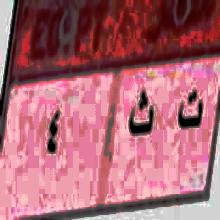4: (48, 99, 60, 164)
taa: (176, 83, 204, 137)
thaa: (126, 86, 156, 145)
